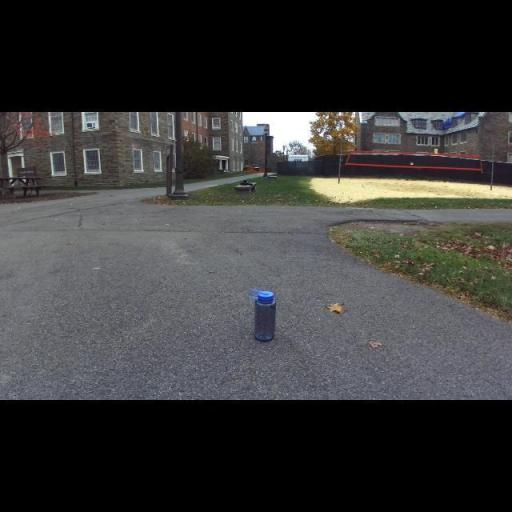bottle: (248, 289, 278, 343)
